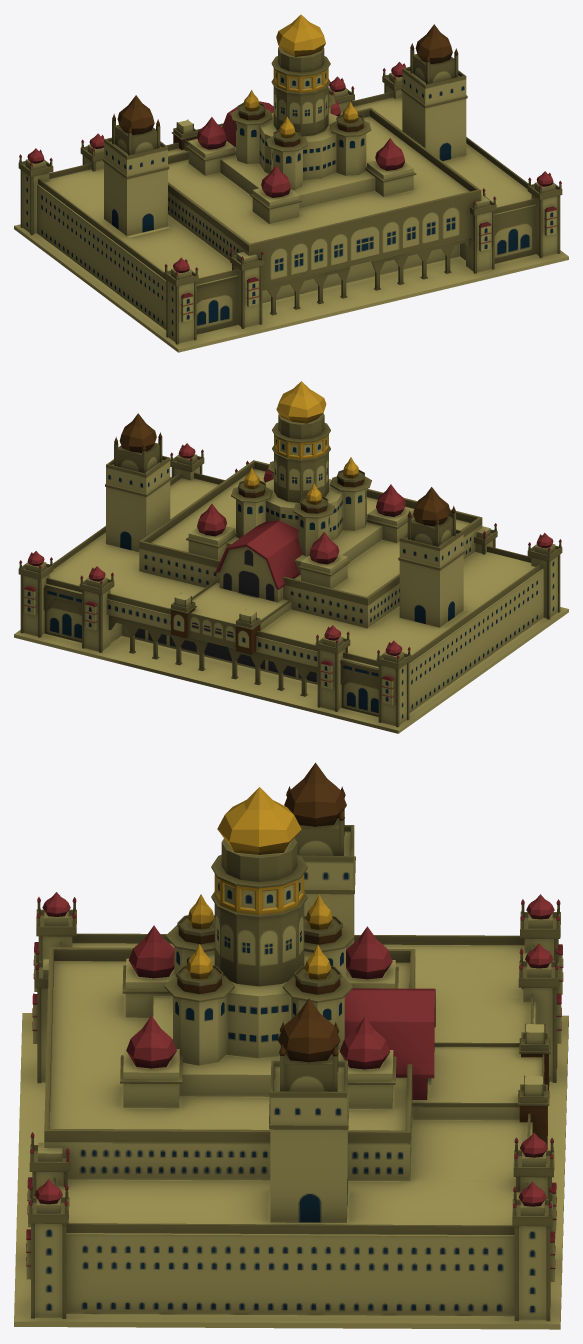
The model's file is castle.glb.
The picture shows the model from 3 angles, top to bottom: view 1: azimuth 30°, elevation 25°; view 2: azimuth 150°, elevation 25°; view 3: azimuth 270°, elevation 25°; orthographic projection. The views are drawn at different scales.
Parts seen in each view (by area): view 1: Palace_mesh; view 2: Palace_mesh; view 3: Palace_mesh.
Boxes of the visible parts, box(x1,y1,x2,y2) form: Palace_mesh: box(14, 14, 568, 352); Palace_mesh: box(14, 381, 568, 733); Palace_mesh: box(14, 762, 568, 1329).
Size of the model in its own units: 39.19 by 22.72 by 29.53.
1 material, 1 textured.
